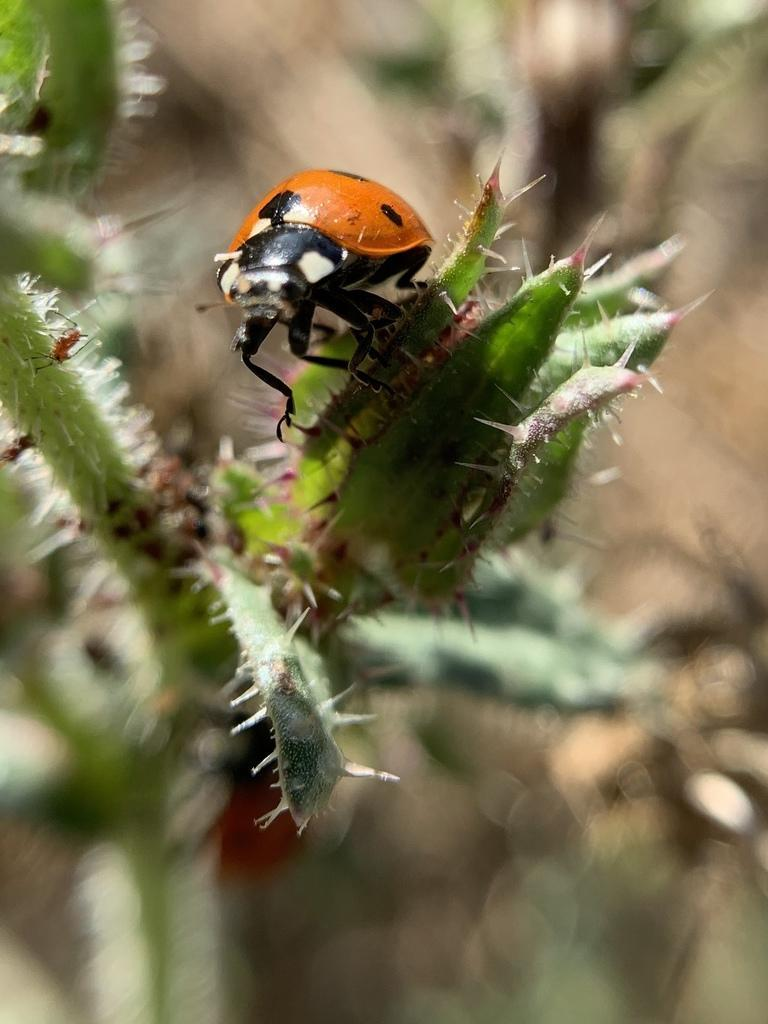ladybug: (211, 164, 444, 446)
